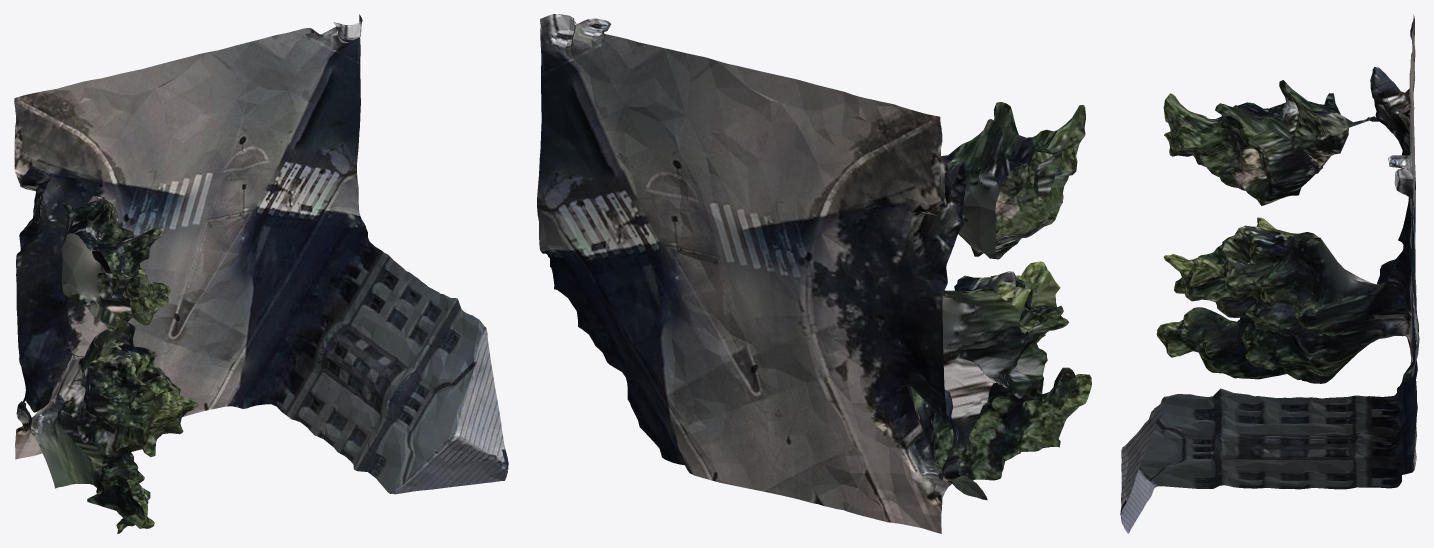
File: Tile_+031_+022_L21_00032300.obj
3 views of the same model, side by side, from view 1: azimuth 30°, elevation 25°; view 2: azimuth 150°, elevation 25°; view 3: azimuth 270°, elevation 25° (orthographic). The views are drawn at different scales.
Size of the model in its own units: 31.38 by 31.31 by 23.95.
1 material, 1 textured.
